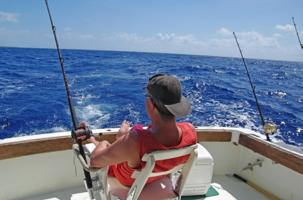person: (78, 75, 197, 188)
